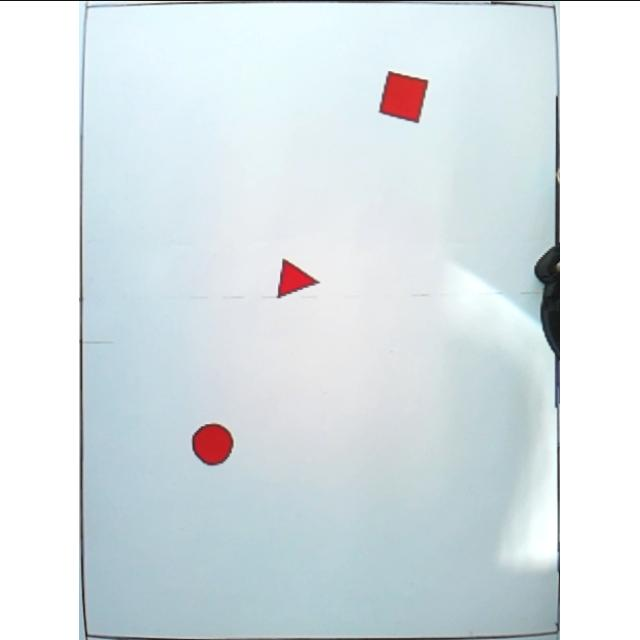redCircle: (188, 420, 236, 466)
redSquare: (378, 67, 432, 123)
redTriangle: (277, 256, 321, 300)
